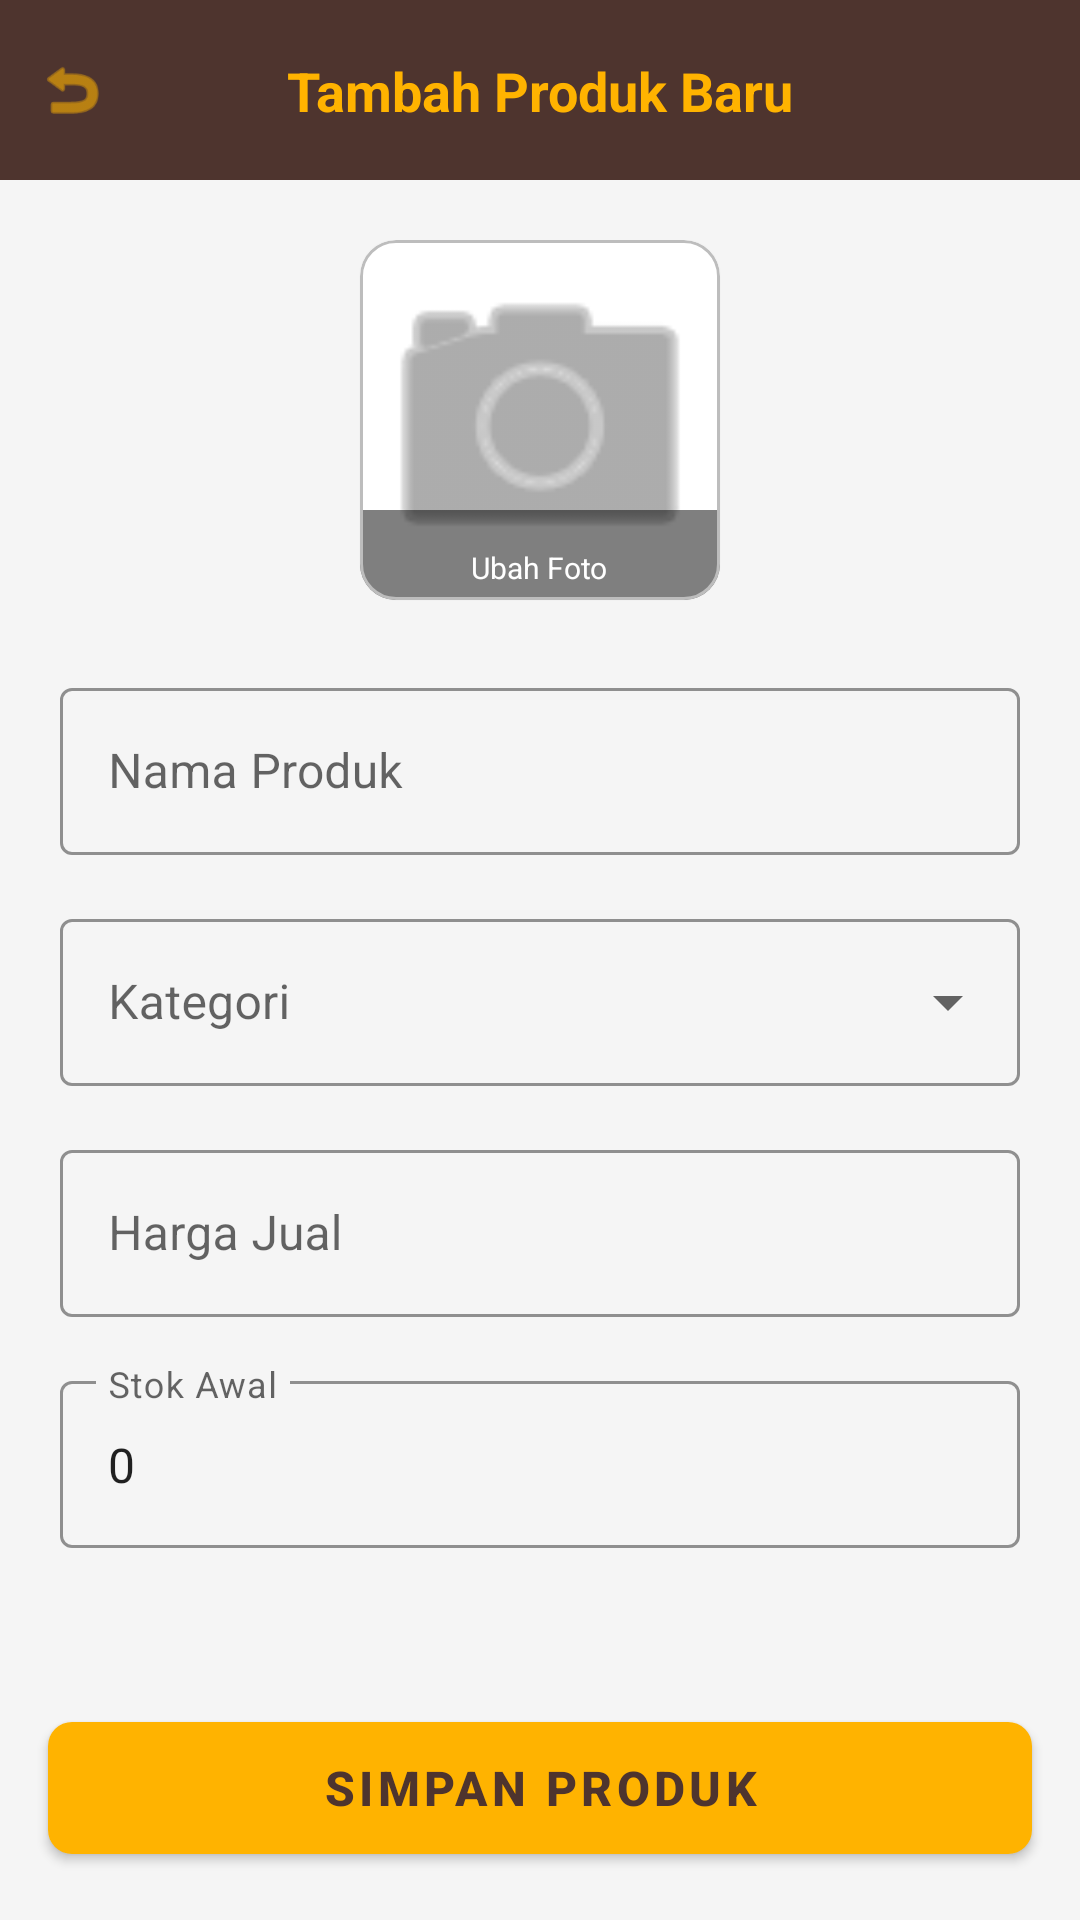

Screen size 1080 x 1920. Icon name, then its center in pixels as [x,y]:
camera: [540,420]
revert: [73,90]
